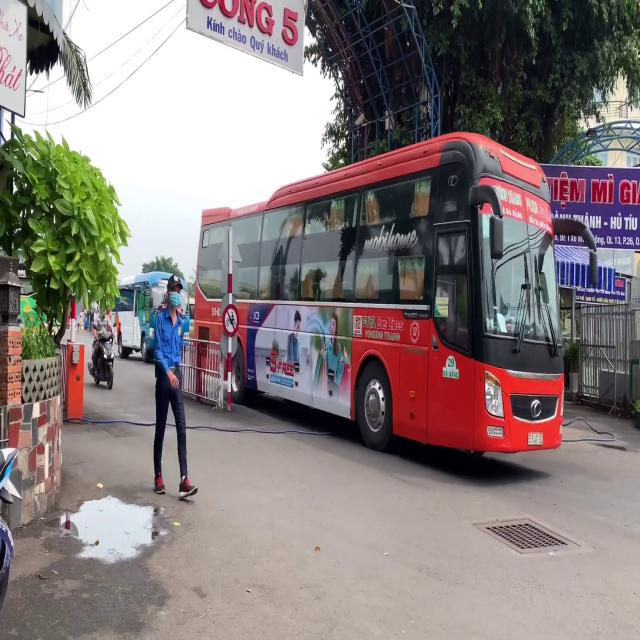bien_trang: (527, 432, 544, 448)
